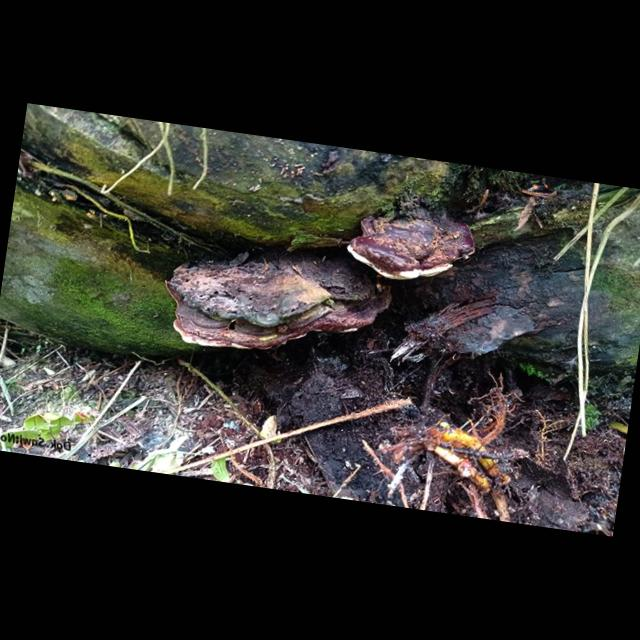ganoderma: (157, 230, 400, 375), (345, 210, 480, 290)
